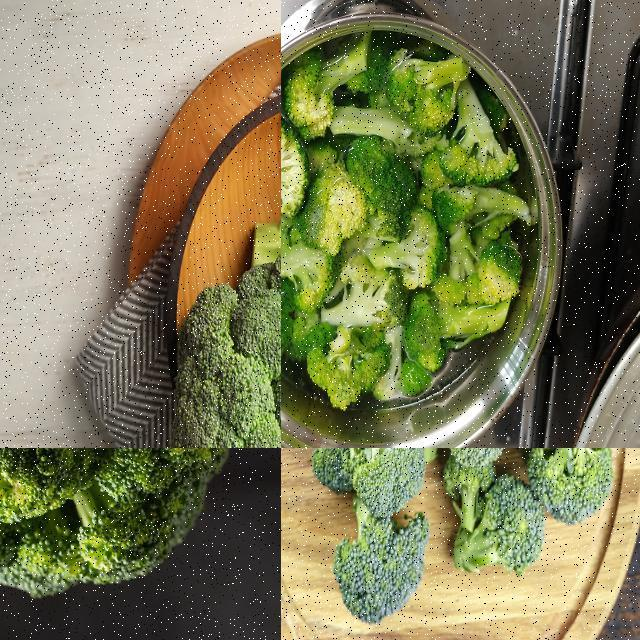broccoli: (0, 448, 248, 604), (172, 255, 280, 447), (336, 486, 436, 628), (281, 26, 372, 141), (396, 291, 521, 368), (450, 483, 542, 580), (440, 76, 517, 182), (520, 448, 620, 527), (384, 54, 474, 139), (281, 205, 347, 307), (339, 448, 424, 515), (368, 208, 439, 288), (302, 448, 363, 503), (281, 120, 313, 220)
